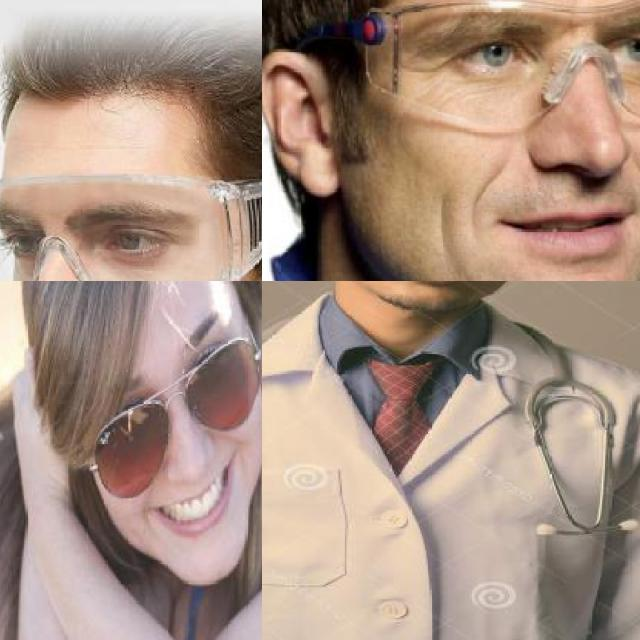No_Ear-Protection: (262, 42, 354, 201)
face_nomask: (435, 18, 640, 281), (89, 336, 257, 539), (0, 205, 192, 281)
glasses: (365, 0, 640, 130), (77, 323, 262, 487), (0, 172, 262, 281)
hand_noglove: (2, 353, 80, 487)
head_nohelmet: (33, 281, 229, 311)
person: (262, 281, 640, 640)
